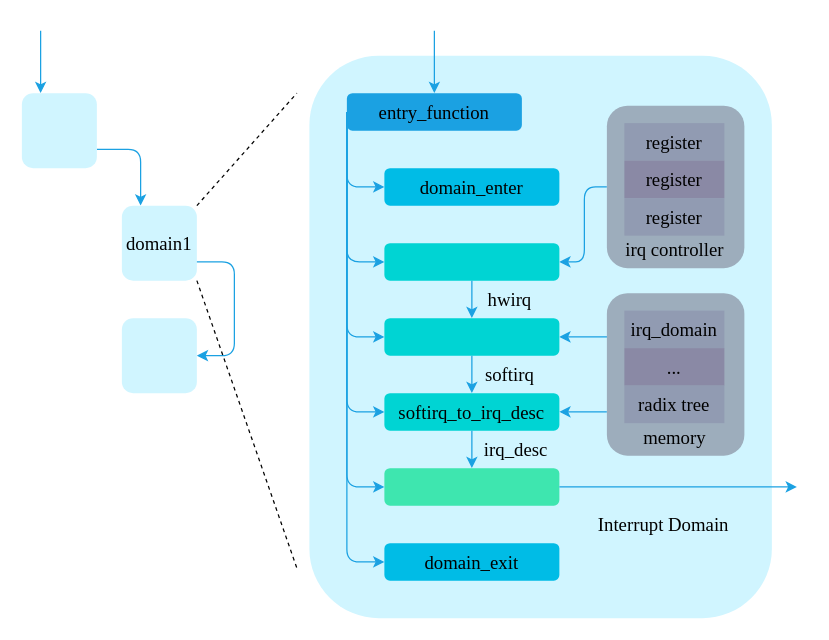
Some shapes in this 829 by 640 pixel diagram are drawn without their labels. The shapes that lost their labels are listed below. From the top down, each one's centre as x and y in pixels, then its label:
At point 58,130: "domain0".
At point 471,261: "query_hwirq".
At point 158,355: "handler".
At point 471,336: "hwirq_to_softirq".
At point 471,486: "irq_desc.handler".
